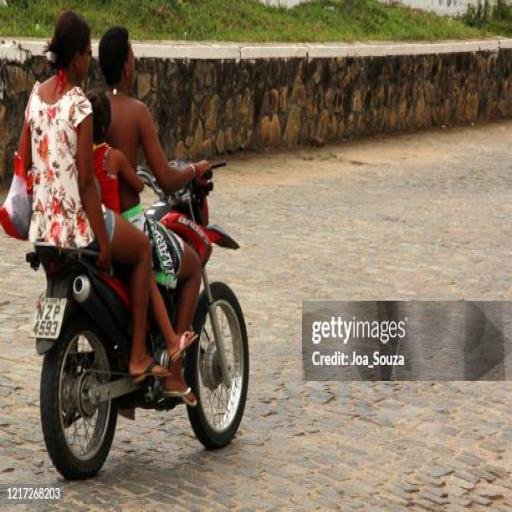no_helm: (97, 4, 149, 113)
